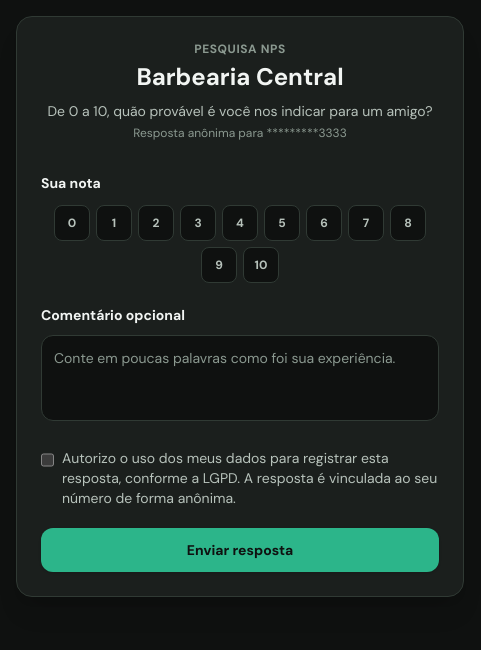
PublicNpsPage › bloqueia o envio sem consentimento LGPD
Check: the heading "Barbearia Central" is shown, box 136,61 -> 344,92
Click the button named "Nota 7": point(366, 223) 348,205 -> 384,241
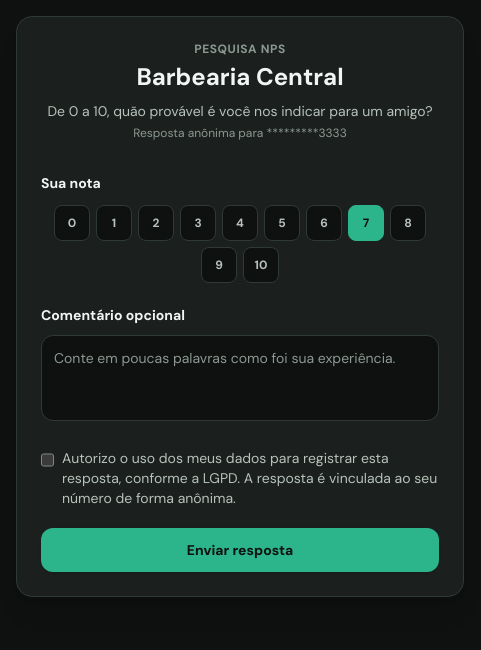
Click the button "Enviar resposta": point(240, 550) 41,528 -> 439,572
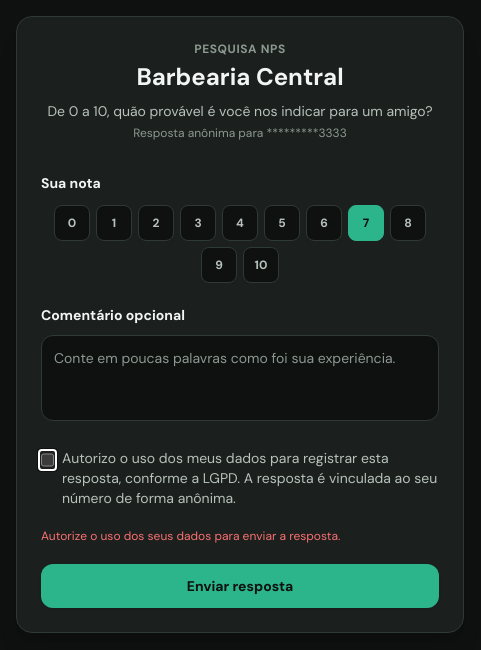
Check: the text "Autorize o uso dos seus dados para enviar a resposta." is shown, box 41,528 -> 340,544
